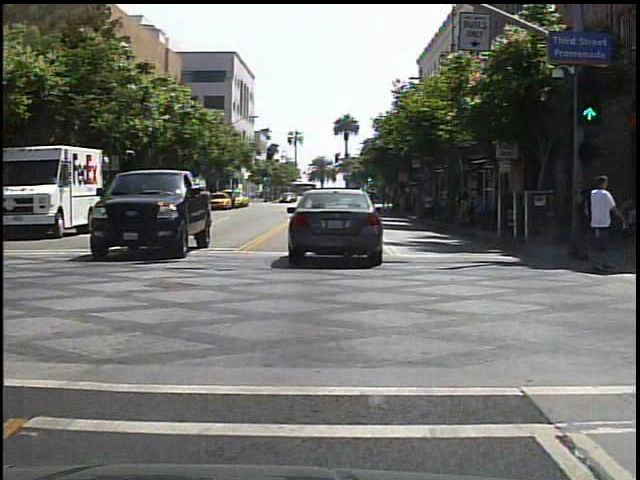person: (583, 164, 623, 271), (581, 172, 613, 267), (419, 189, 438, 223)
